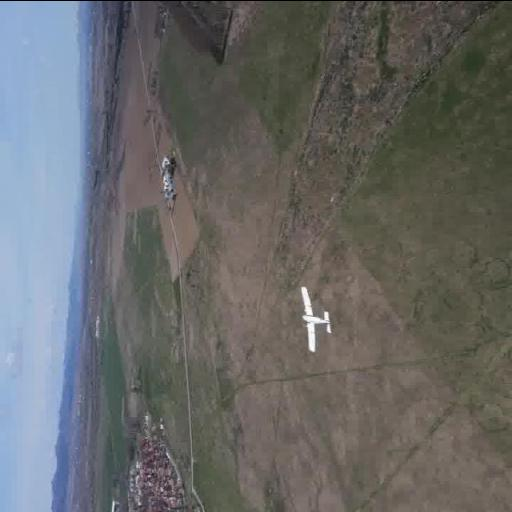uav: (292, 284, 342, 356)
